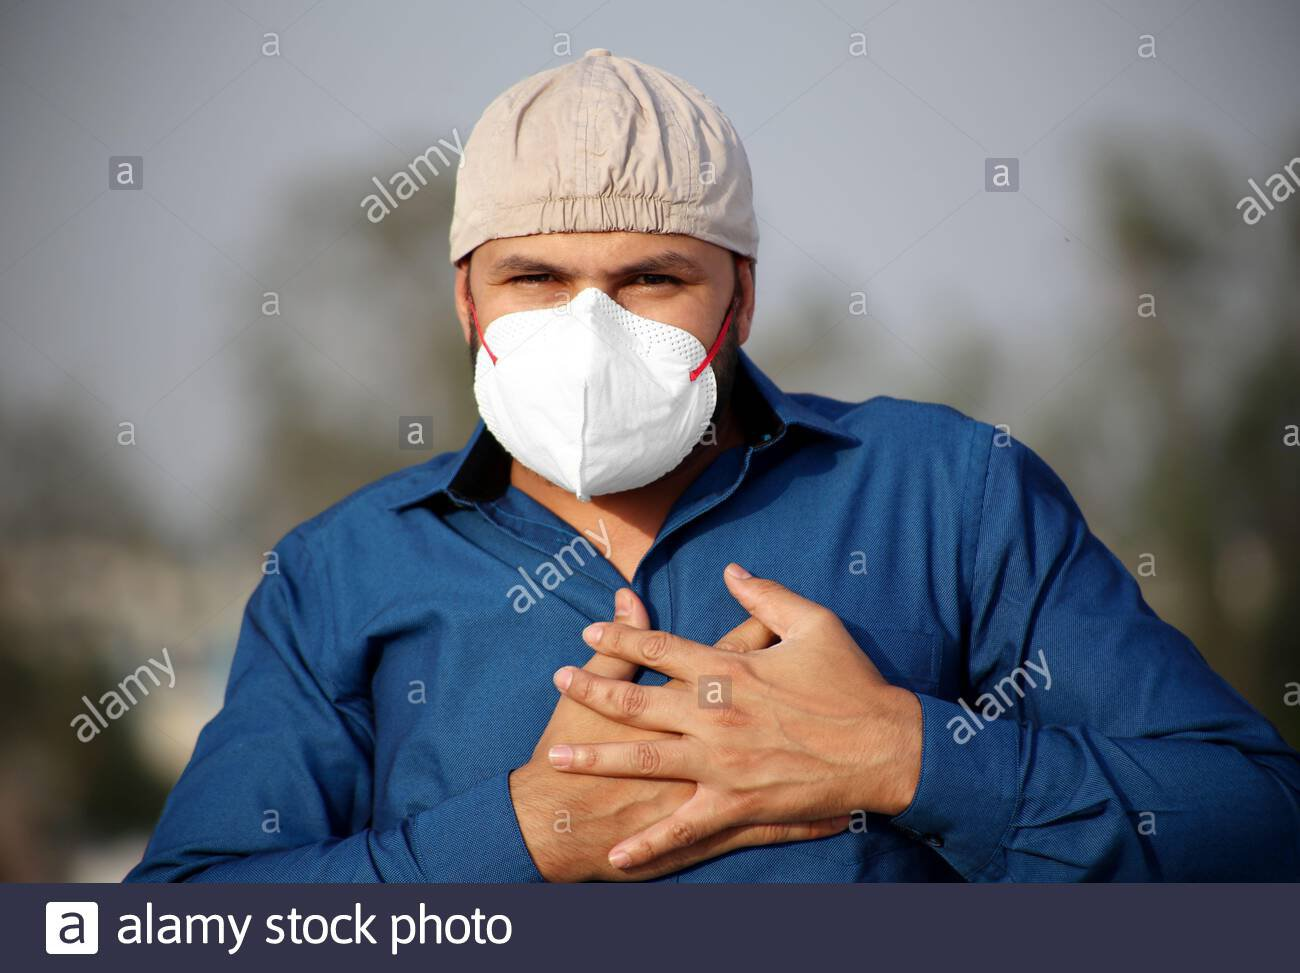mask: (418, 56, 793, 500)
